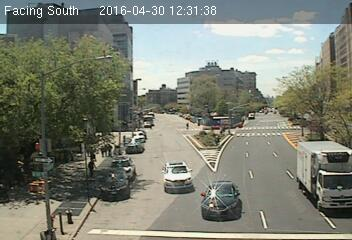neg: (16, 7, 47, 49), (111, 34, 138, 69), (166, 173, 191, 207), (293, 77, 316, 108), (202, 88, 222, 115), (294, 27, 314, 54), (161, 100, 180, 124), (216, 153, 233, 176), (275, 136, 289, 156)
